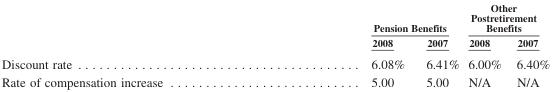table: (0, 1, 549, 88)
table column: (0, 1, 266, 88), (266, 1, 414, 88), (414, 1, 463, 88), (463, 1, 508, 88), (508, 1, 549, 88)
table column header: (0, 1, 549, 51)
table row: (0, 1, 549, 34), (0, 51, 549, 72), (0, 34, 549, 51), (0, 72, 549, 88)
table spanning cell: (266, 1, 463, 34), (463, 1, 549, 34)
